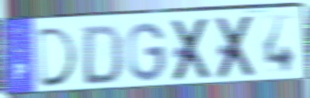4: (263, 14, 298, 76)
D: (36, 25, 81, 90), (81, 23, 125, 87)
G: (127, 20, 167, 83)
X: (215, 14, 259, 82), (170, 16, 214, 84)
